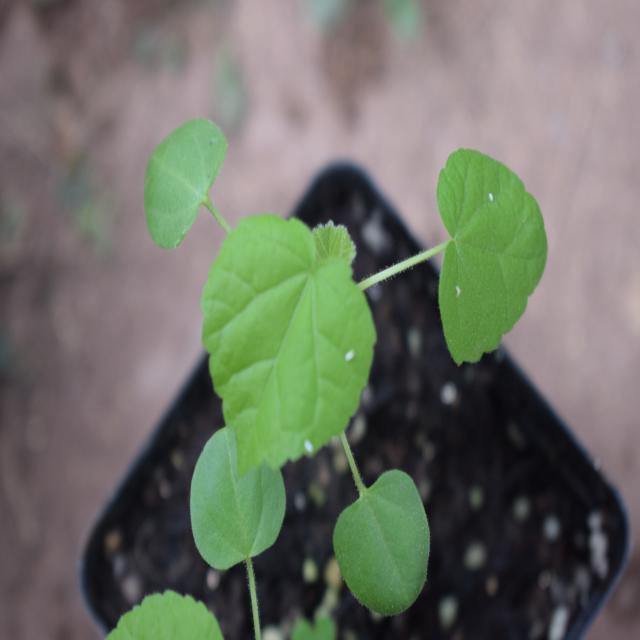abutilon theophrasti: (122, 116, 538, 584)
